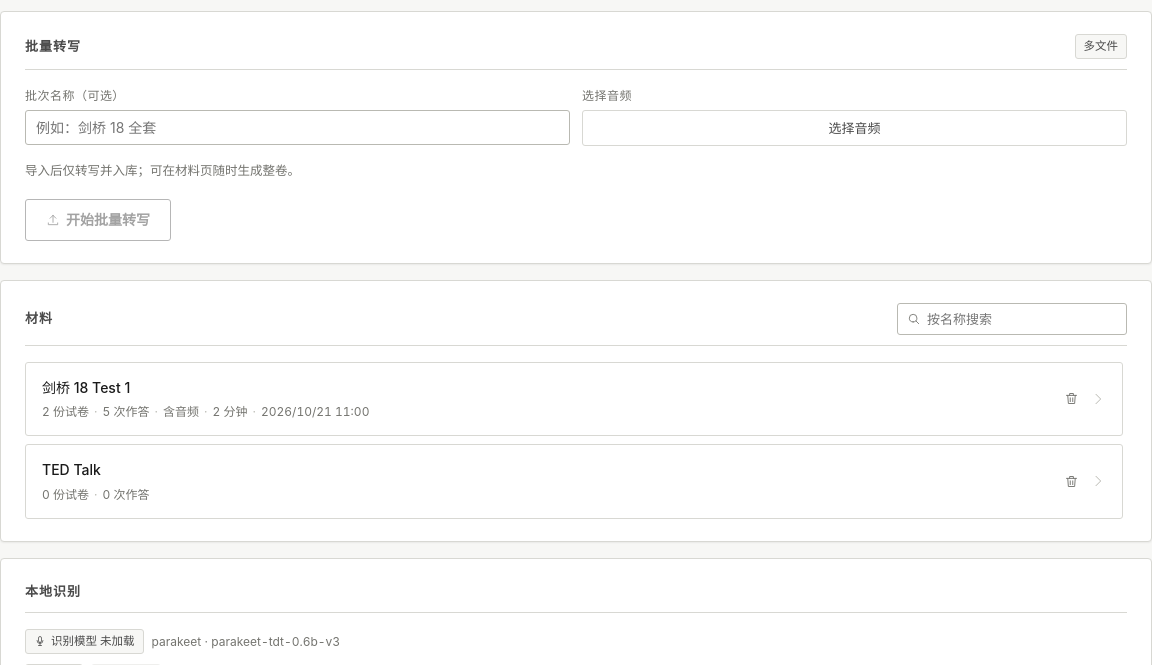
Test: LibraryView › filters by search query
(page scrolled)
In the search field with placeholder "按名称搜索": (1022, 318) x1=927 y1=304 x2=1117 y2=334, type "ted"
(page scrolled)
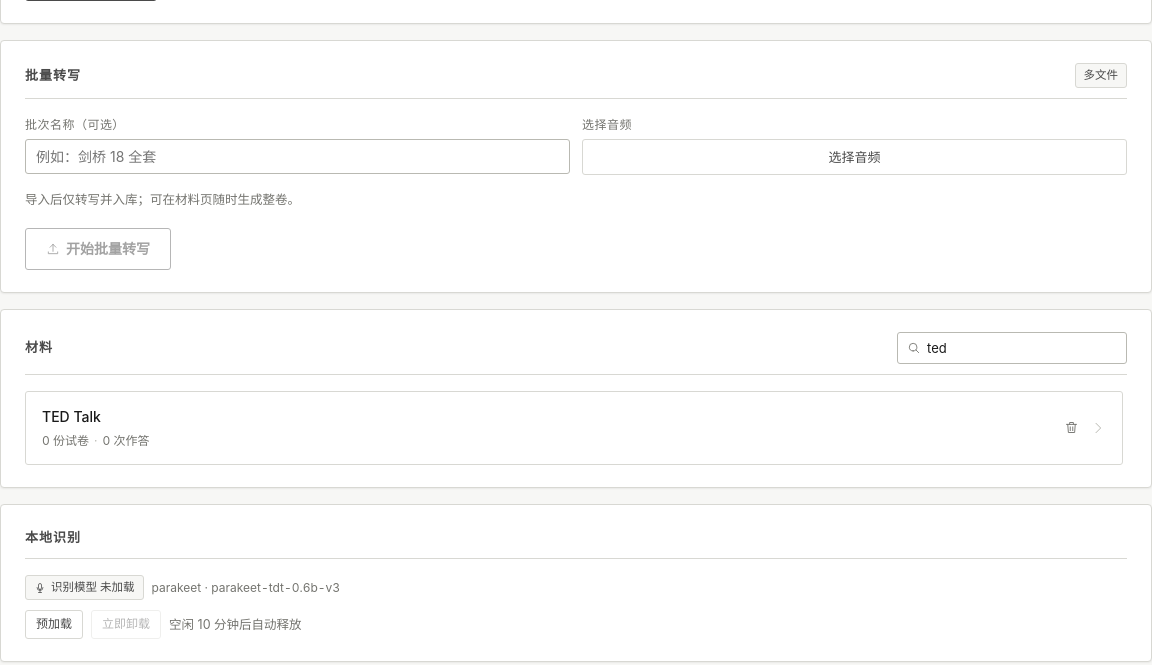
Expected: the text "TED Talk" is shown, x1=42 y1=408 x2=101 y2=424
Expected: the number of elements with class "mat" is 1, x1=25 y1=390 x2=1123 y2=465
